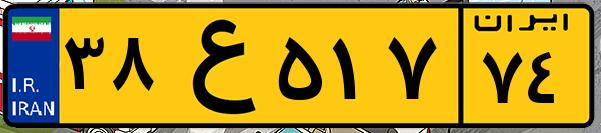1: (330, 28, 385, 110)
3: (57, 26, 110, 100)
4: (525, 38, 570, 115)
5: (270, 28, 330, 110)
7: (385, 28, 445, 110), (475, 38, 525, 113)
8: (110, 28, 158, 98)
ع: (158, 12, 270, 120)
